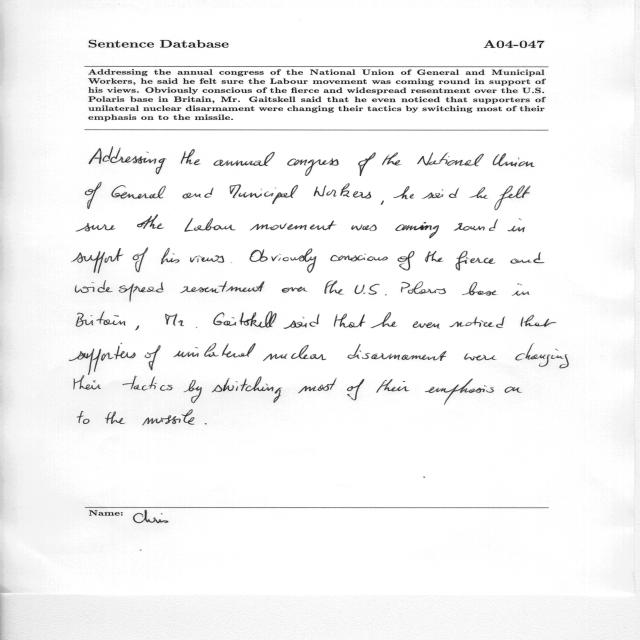word: (89, 147, 166, 175), (69, 343, 136, 375), (75, 281, 164, 303), (212, 376, 281, 403), (425, 379, 494, 405), (348, 344, 447, 361), (250, 248, 317, 273), (515, 343, 569, 369), (72, 248, 124, 273), (230, 185, 298, 204), (174, 343, 256, 358), (213, 311, 277, 328), (180, 281, 264, 293), (263, 345, 326, 361), (417, 153, 484, 167), (287, 158, 339, 176), (314, 183, 371, 199), (495, 186, 531, 211), (250, 221, 337, 231), (214, 152, 275, 166), (142, 410, 195, 426), (76, 311, 126, 327), (111, 185, 166, 199), (122, 376, 173, 391), (456, 251, 496, 270), (184, 218, 236, 232), (395, 222, 439, 238), (450, 316, 506, 328), (493, 153, 535, 167), (401, 281, 446, 294), (298, 378, 337, 393), (284, 314, 320, 329), (454, 219, 498, 231), (462, 282, 497, 296), (330, 254, 388, 262), (377, 379, 410, 393), (85, 182, 102, 209), (165, 314, 197, 328), (334, 314, 366, 328), (183, 380, 202, 403), (358, 152, 376, 176), (371, 312, 398, 328), (521, 315, 556, 327), (511, 252, 545, 264), (422, 188, 459, 199), (74, 375, 101, 390), (145, 345, 161, 370), (137, 215, 164, 229), (354, 284, 387, 295), (133, 248, 148, 272), (347, 379, 364, 400), (398, 251, 415, 270), (181, 149, 201, 165), (76, 223, 116, 231), (183, 188, 214, 198), (161, 248, 179, 264), (324, 281, 344, 295), (393, 186, 414, 199), (190, 255, 224, 263), (507, 218, 525, 232), (382, 153, 401, 166), (105, 412, 125, 424), (512, 283, 530, 296), (469, 187, 488, 199), (464, 354, 496, 361), (425, 251, 443, 262), (413, 322, 440, 329), (77, 411, 90, 424), (351, 225, 377, 231), (282, 287, 307, 293), (504, 386, 522, 393), (380, 200, 384, 205), (135, 326, 139, 331), (205, 423, 207, 425), (231, 262, 232, 263)
